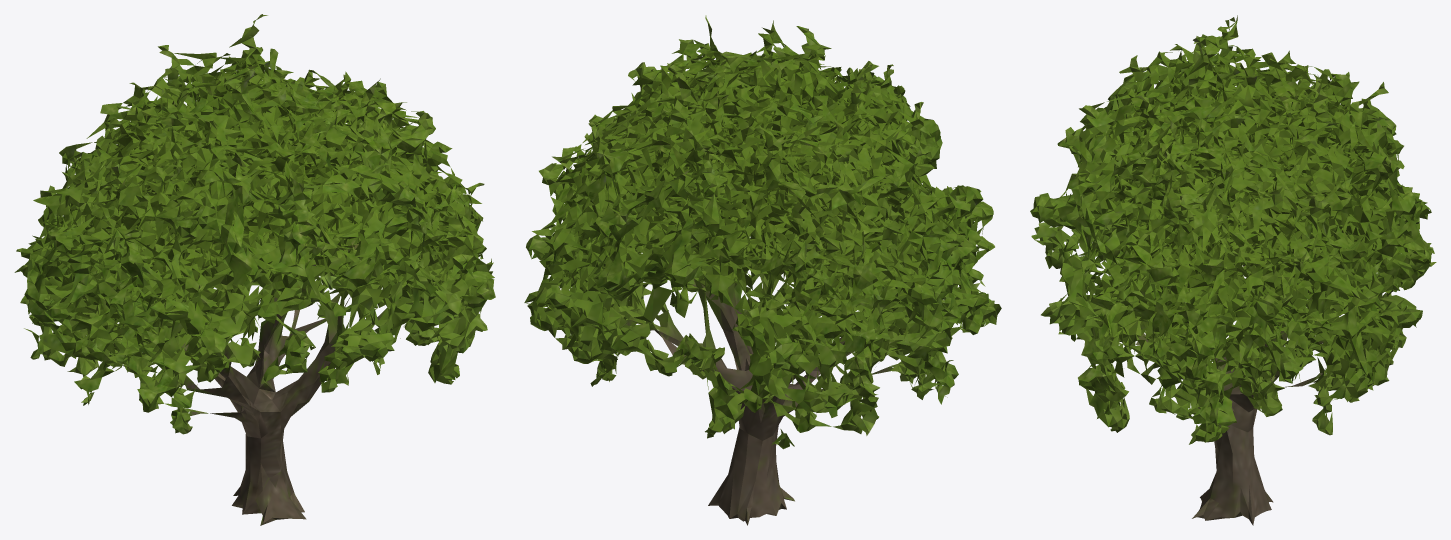
Rendered from remeshed-mango120.glb.
The picture shows the model from 3 angles, left to right: view 1: azimuth 30°, elevation 25°; view 2: azimuth 150°, elevation 25°; view 3: azimuth 270°, elevation 25°; orthographic projection. The views are drawn at different scales.
Parts seen in each view (by area): view 1: output_unwrapped; view 2: output_unwrapped; view 3: output_unwrapped.
Part boxes in pixels (x1,y1,x2,y2): output_unwrapped: (14,14,495,525); output_unwrapped: (524,15,1001,525); output_unwrapped: (1030,15,1436,525).
Bounding box in the file's own units: 1.78 × 1.82 × 1.46.
Materials: 1 (1 with a texture image).
